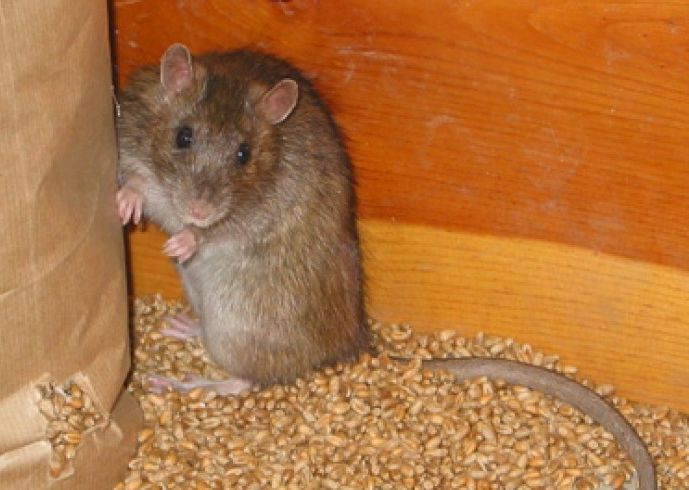rat: (86, 31, 498, 407)
